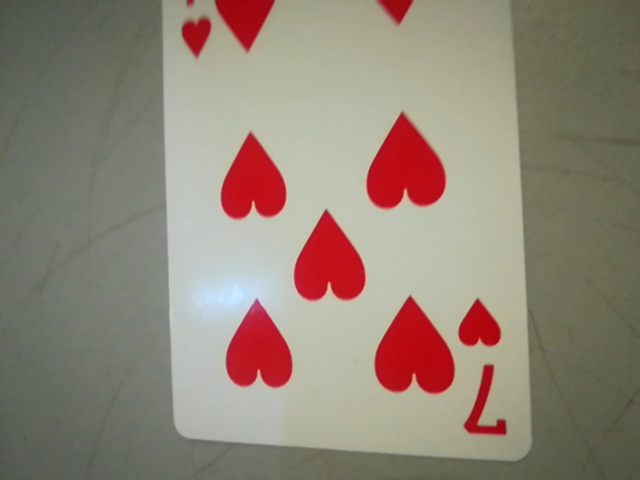hx 7: (450, 291, 525, 453)
